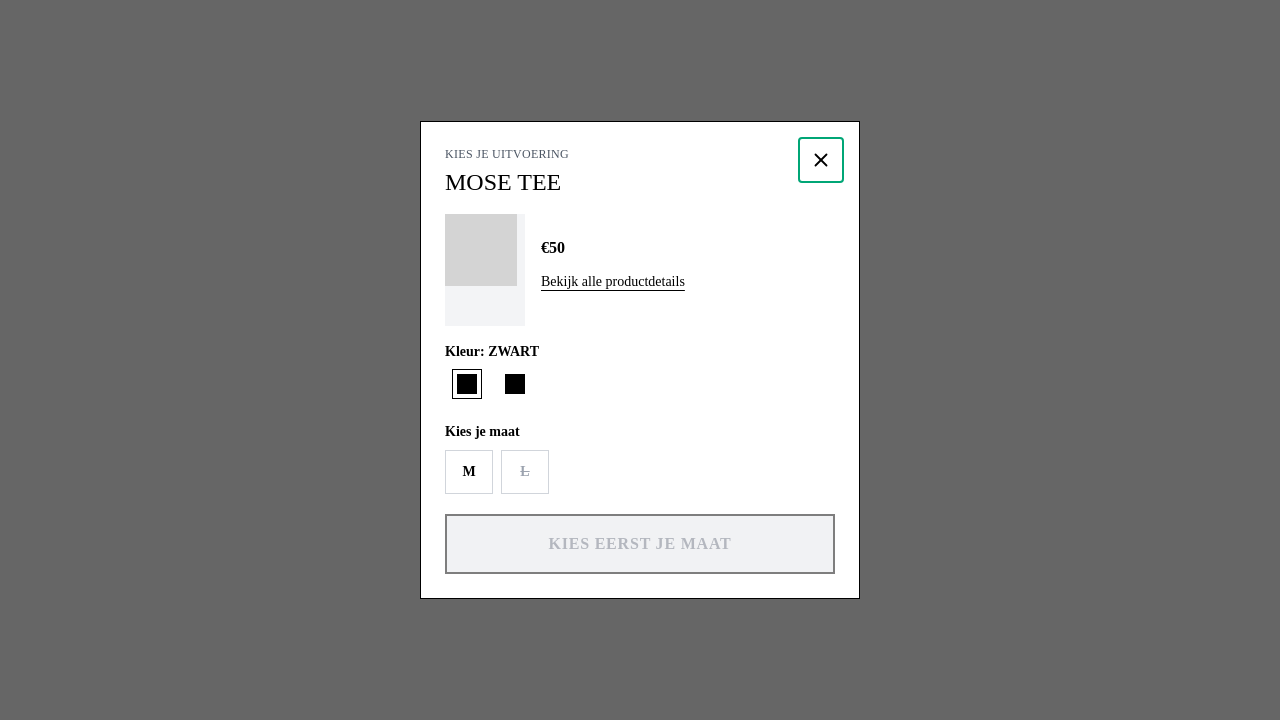
Test: does not add a variant which sells out between selection and adding
Click the button "M" at (469, 472), box [445,450,493,494]
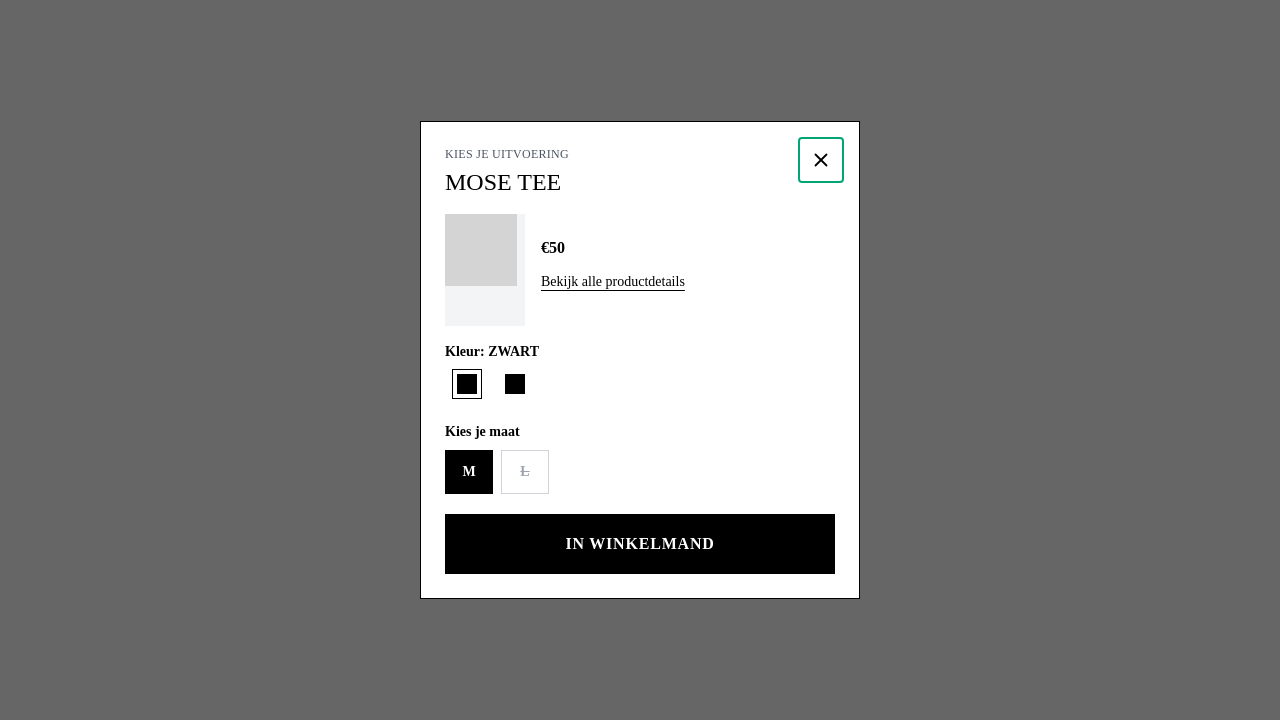
Click the button "In winkelmand" at (640, 544), box [445,514,835,574]
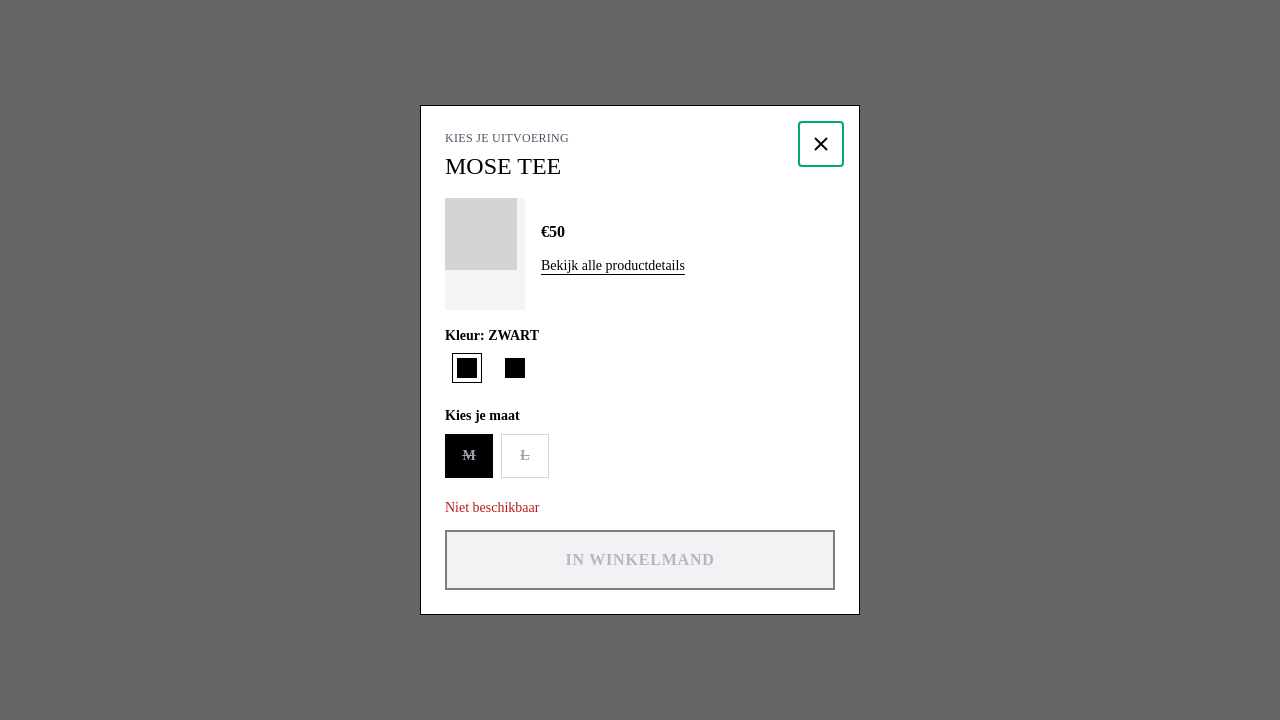
Check: the message reads "Niet beschikbaar", box [445,500,540,515]
